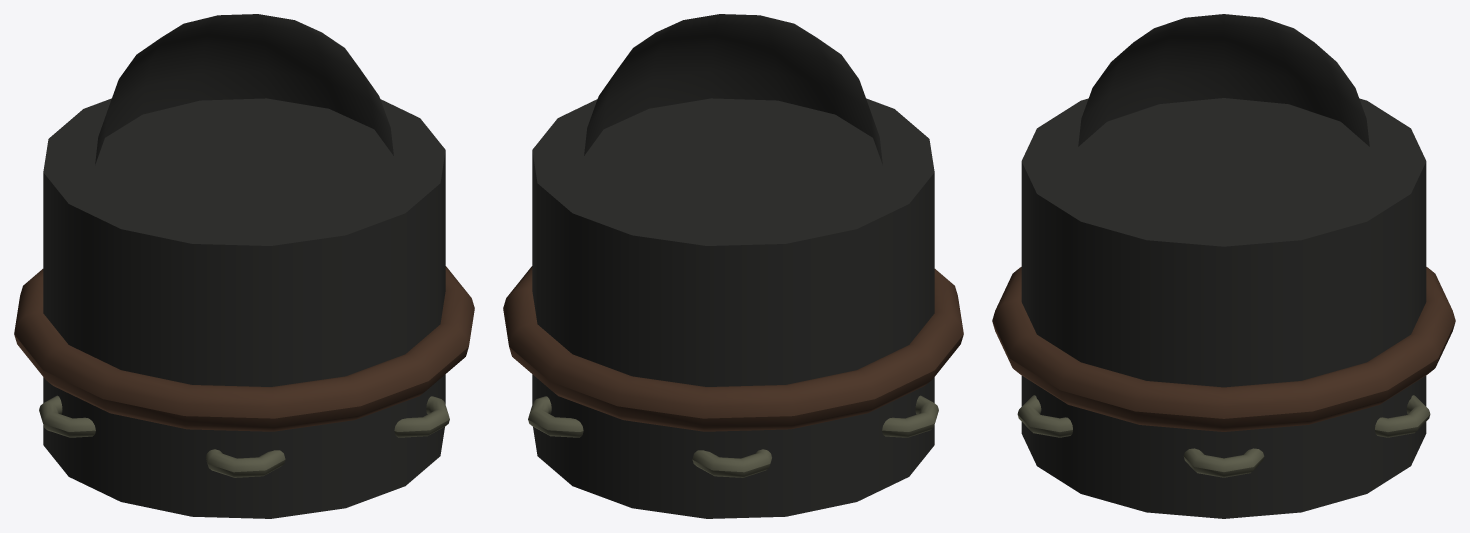
The model's file is chainmail.obj.
3 views of the same model, side by side, from view 1: azimuth 30°, elevation 25°; view 2: azimuth 150°, elevation 25°; view 3: azimuth 270°, elevation 25° (orthographic).
Visible parts, largest first — view 1: chainmail; view 2: chainmail; view 3: chainmail.
Part boxes in pixels (x1,y1,x2,y2): chainmail: (14,14,474,518); chainmail: (503,14,963,518); chainmail: (992,14,1455,518).
Bounding box in the file's own units: 1.42 × 1.35 × 1.42.
